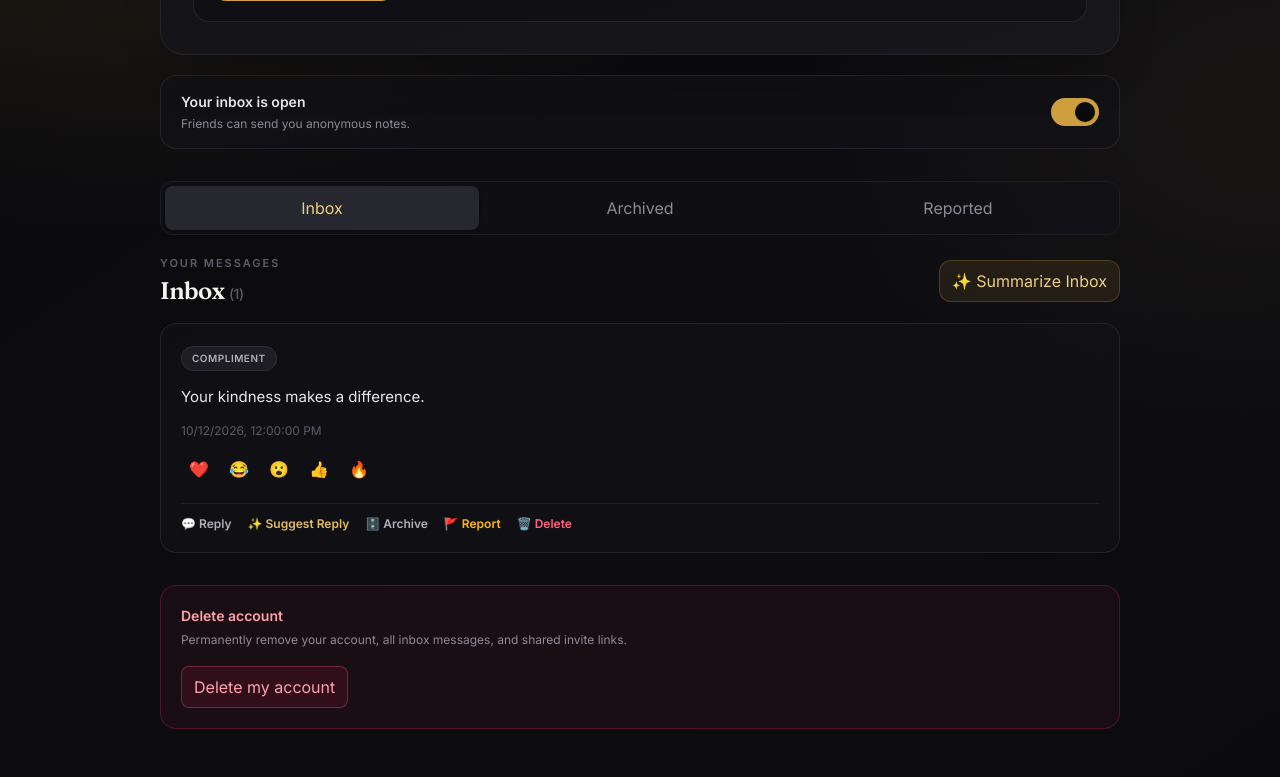
inbox dashboard › reverts a failed reaction and explains the error
(page scrolled)
Expected: the text "Your kindness makes a difference." is shown, [181,387,425,406]
What coordinates should you click on to do the following:
click the button named "React with ❤️"
I would click on:
 (199, 469)
Its box is [181,451,217,487].
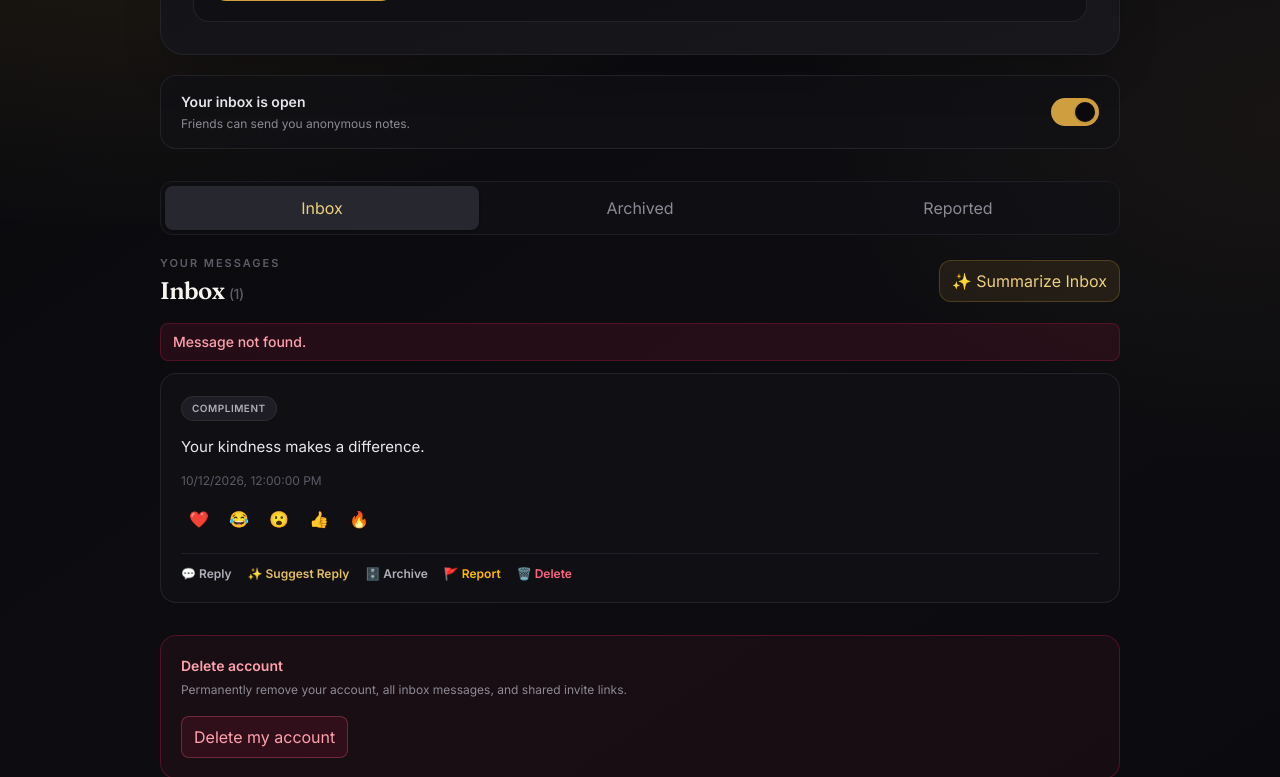
Now the message reads "Message not found.", box [173,333,306,350]
